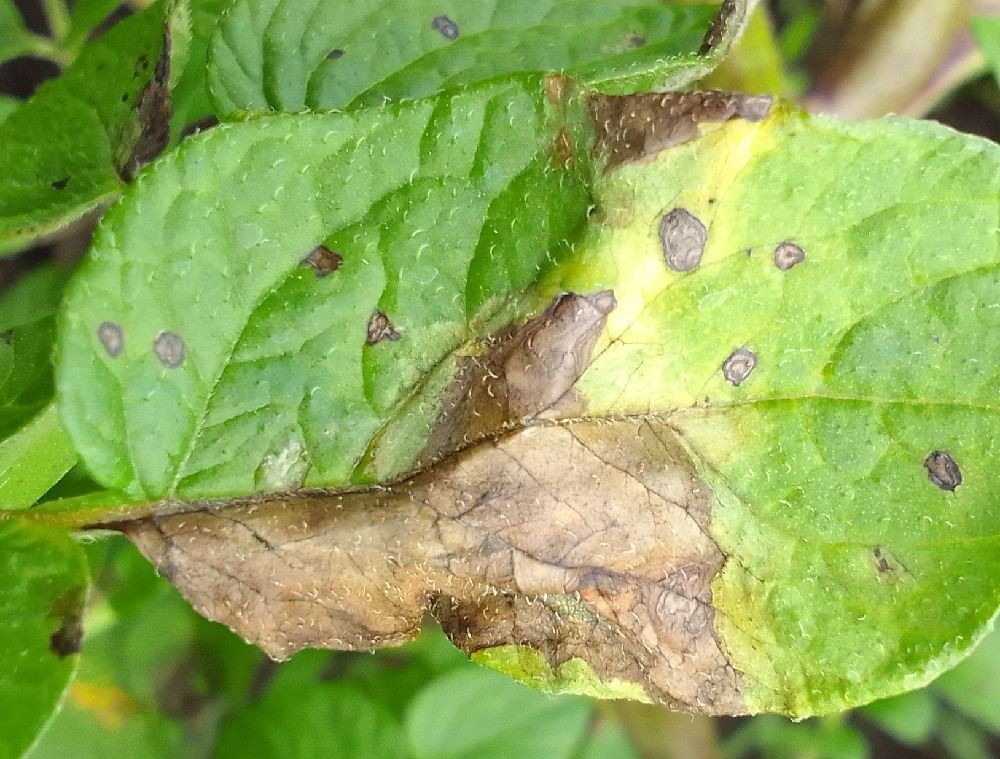late_blight: (62, 276, 757, 758), (736, 0, 1000, 172), (522, 41, 798, 197), (826, 681, 1000, 759)
